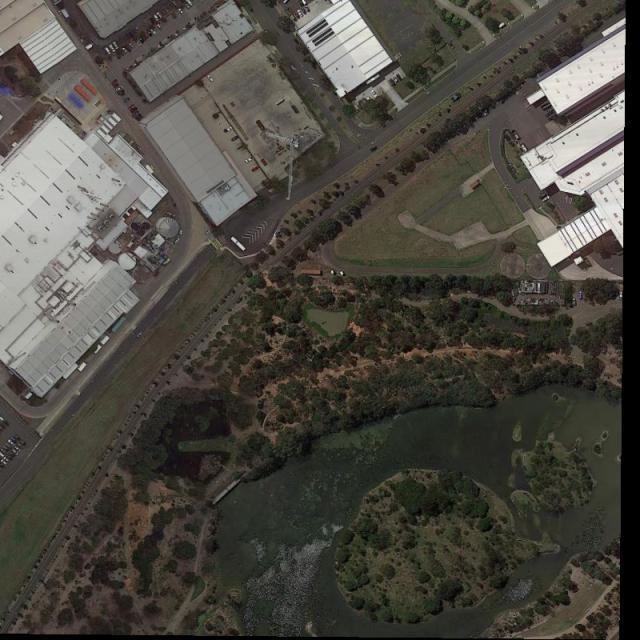vehicle: (296, 8, 305, 19), (223, 125, 233, 134), (206, 74, 215, 83), (389, 78, 397, 88), (84, 42, 94, 50), (156, 12, 164, 22), (125, 44, 133, 53), (252, 165, 261, 173), (3, 456, 11, 465), (294, 10, 301, 20), (371, 90, 379, 98), (290, 14, 298, 22), (10, 436, 18, 444), (127, 103, 135, 111), (112, 42, 120, 50), (178, 8, 186, 16), (110, 78, 118, 86), (246, 156, 254, 164), (1, 458, 9, 466), (118, 49, 125, 58), (230, 135, 239, 142), (541, 195, 550, 202), (301, 7, 307, 17), (396, 74, 403, 82), (18, 439, 26, 446), (16, 442, 23, 450), (13, 445, 21, 452), (10, 448, 18, 455), (13, 434, 20, 442), (115, 85, 123, 92), (123, 96, 131, 103), (130, 106, 138, 113), (132, 109, 140, 116), (105, 47, 112, 55), (128, 42, 135, 50), (114, 51, 121, 59), (156, 23, 163, 31), (151, 27, 158, 35), (184, 2, 191, 10), (1, 422, 8, 430), (173, 1, 179, 10), (297, 1, 304, 8), (8, 451, 15, 458), (6, 453, 13, 460), (8, 439, 15, 446), (5, 442, 12, 449), (3, 445, 10, 452), (3, 420, 10, 427), (110, 43, 116, 51), (122, 46, 128, 54), (153, 14, 159, 22), (306, 5, 311, 14), (1, 424, 6, 433), (394, 76, 400, 83), (1, 448, 7, 455), (118, 89, 125, 95), (302, 1, 308, 7), (1, 414, 5, 422), (579, 291, 583, 299), (572, 298, 576, 306), (1, 451, 4, 458), (178, 1, 185, 4), (1, 463, 4, 470), (199, 1, 205, 3), (186, 1, 190, 2)
